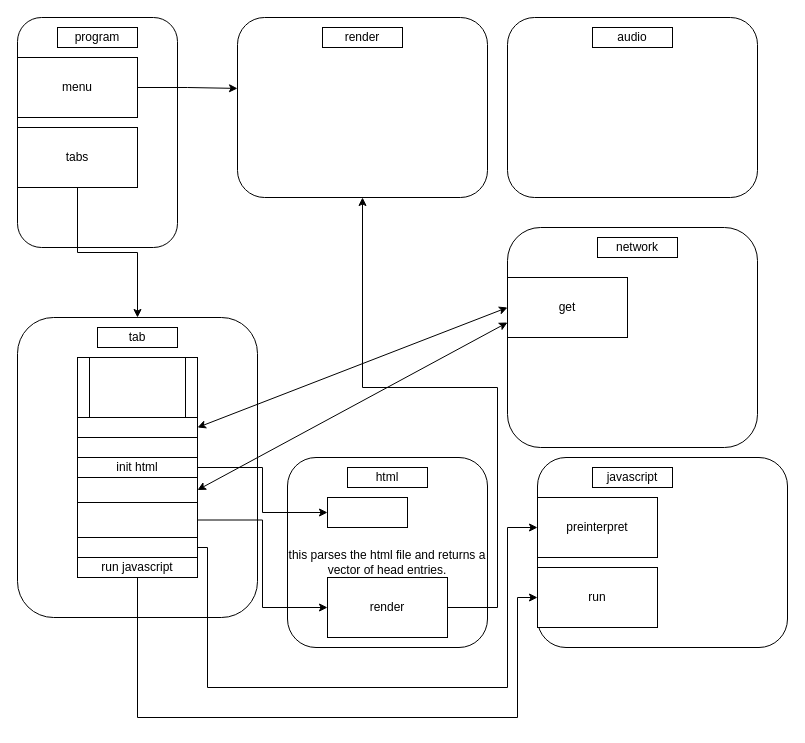
The diagram is 805 pixels wide and 743 high, and some of its shapes have lost their labels. The box of each missing label's shape, as (x1, y1, x2, y2) in pixels:
check file type: (76, 436, 198, 458)
get all other files: (76, 476, 198, 502)
get file: (76, 416, 198, 438)
html and css to render: (76, 502, 198, 538)
javascript to preint: (76, 536, 198, 558)
onDirect (you enter an url or get redirected): (76, 356, 198, 418)
parse: (326, 496, 408, 528)
